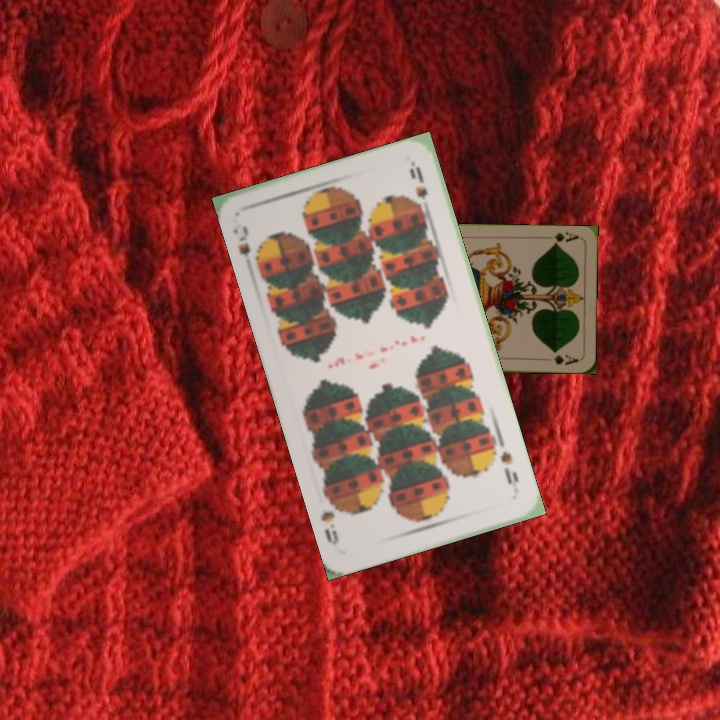GA: (549, 228, 581, 248)
S9: (234, 221, 263, 274), (496, 446, 521, 487)
